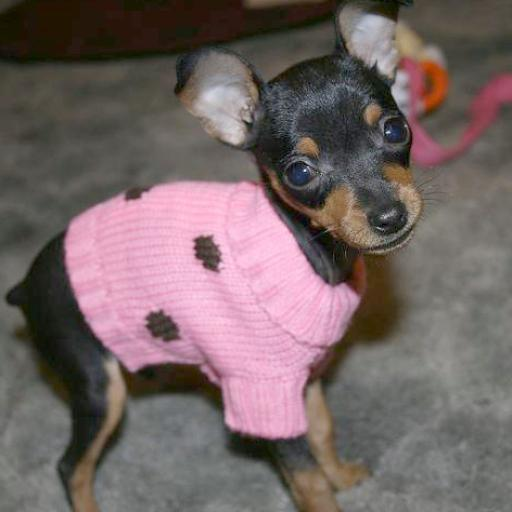dog_face: (186, 0, 440, 265)
